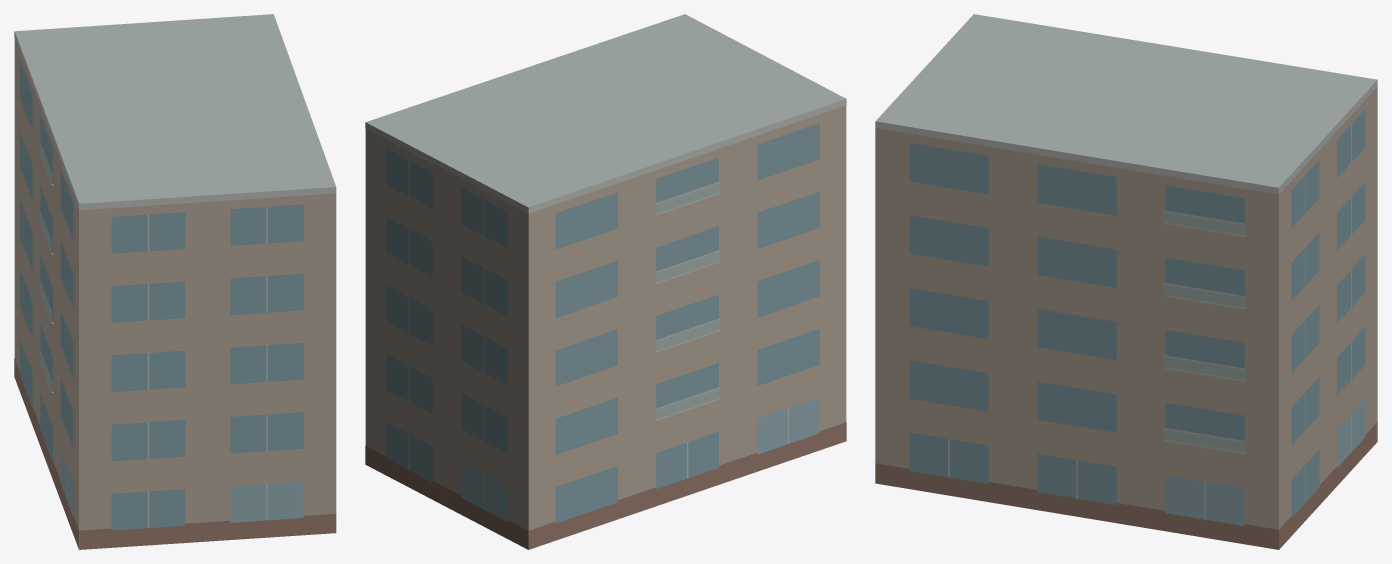
The model's file is survey-upis-33018132.glb.
3 renders of one model, left to right at view 1: azimuth 30°, elevation 25°; view 2: azimuth 150°, elevation 25°; view 3: azimuth 270°, elevation 25°, orthographic. The views are drawn at different scales.
Visible parts, largest first — view 1: survey-upis-33018132.tmp; view 2: survey-upis-33018132.tmp; view 3: survey-upis-33018132.tmp.
Boxes of the visible parts, box(x1,y1,x2,y2) form: survey-upis-33018132.tmp: box(14, 14, 336, 549); survey-upis-33018132.tmp: box(365, 14, 846, 549); survey-upis-33018132.tmp: box(875, 14, 1377, 549).
Size of the model in its own units: 13.55 by 13.15 by 16.54.
